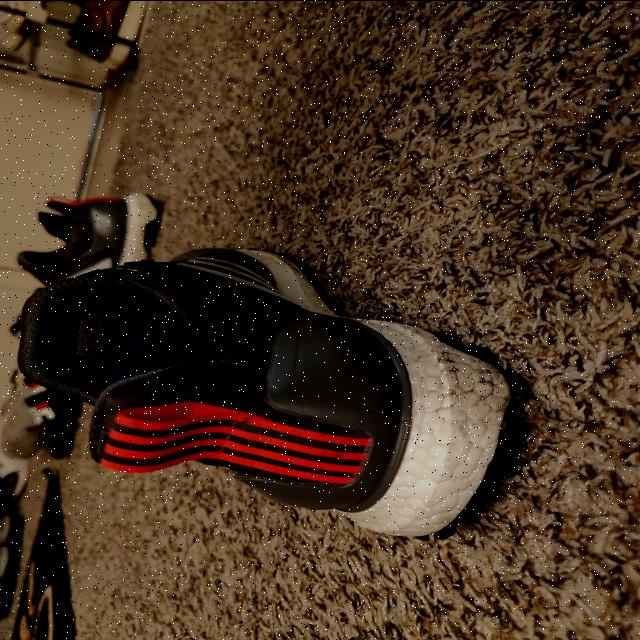black shoes: (23, 251, 509, 533)
